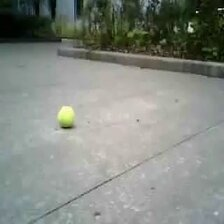tennis: (57, 106, 76, 127)
